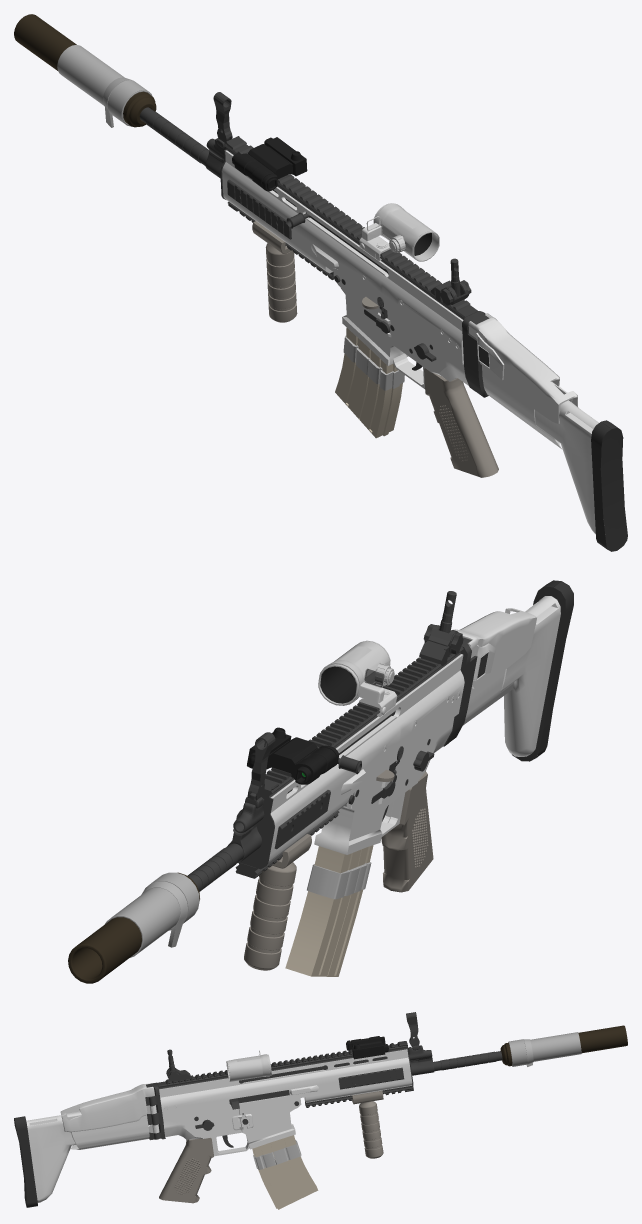
The model's file is scar17.glb.
3 renders of one model, top to bottom at view 1: azimuth 30°, elevation 25°; view 2: azimuth 150°, elevation 25°; view 3: azimuth 270°, elevation 25°, orthographic. The views are drawn at different scales.
Parts seen in each view (by area): view 1: base_scar, metal_black, grip_and_hand_grip, fabric, culette, munnition, optic_shot, supressor, laser_rifle1; view 2: base_scar, metal_black, grip_and_hand_grip, munnition, fabric, optic_shot, supressor, laser_rifle1, culette; view 3: base_scar, metal_black, grip_and_hand_grip, fabric, munnition, supressor, culette, optic_shot, laser_rifle1.
Part boxes in pixels (x1,y1,x2,y2): base_scar: (222,150,598,534); metal_black: (139,92,489,397); grip_and_hand_grip: (252,221,498,477); fabric: (57,45,404,390); culette: (591,420,627,551); munnition: (335,328,402,438); optic_shot: (359,203,439,261); supressor: (14,14,156,127); laser_rifle1: (232,137,307,191); base_scar: (268,596,560,862); metal_black: (187,591,488,891); grip_and_hand_grip: (244,769,433,970); munnition: (285,845,373,976); fabric: (105,862,371,957); optic_shot: (318,640,397,716); supressor: (68,872,199,983); laser_rifle1: (247,727,338,784); culette: (512,580,573,761); base_scar: (26,1049,412,1202); metal_black: (145,1012,502,1147); grip_and_hand_grip: (159,1090,383,1203); fabric: (253,1032,581,1169); munnition: (252,1135,318,1209); supressor: (500,1025,627,1066); culette: (14,1116,37,1207); optic_shot: (226,1050,271,1081); laser_rifle1: (346,1036,388,1059).
Size of what is drawn, in the model's own units: 2.35 by 4.25 by 13.26.
